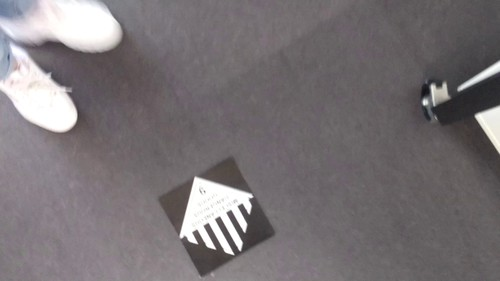misgoods: (177, 175, 258, 260)
